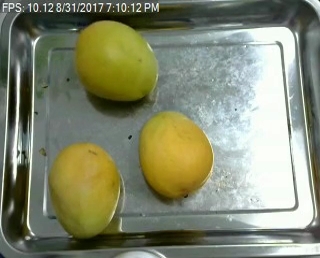Mango: (38, 138, 124, 236), (73, 21, 167, 104), (135, 109, 217, 201)
